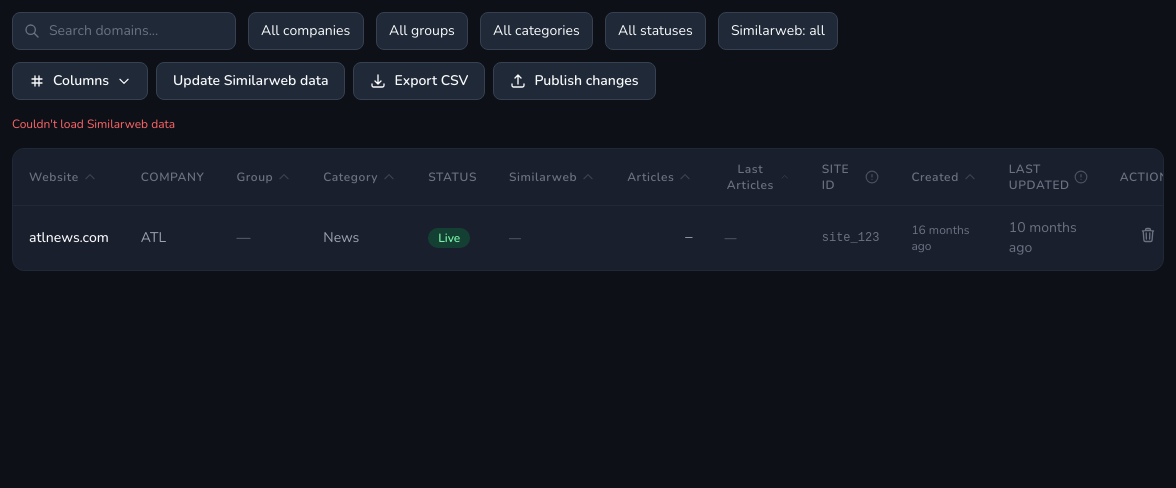
Test: SitesTable — column chooser › closes the popover on Escape
This screenshot has width=1176, height=488.
Expected: the text "atlnews.com" is shown, [13,206,125,270]
Click the button "Columns". click: click(80, 81)
box: [12,62,148,100]
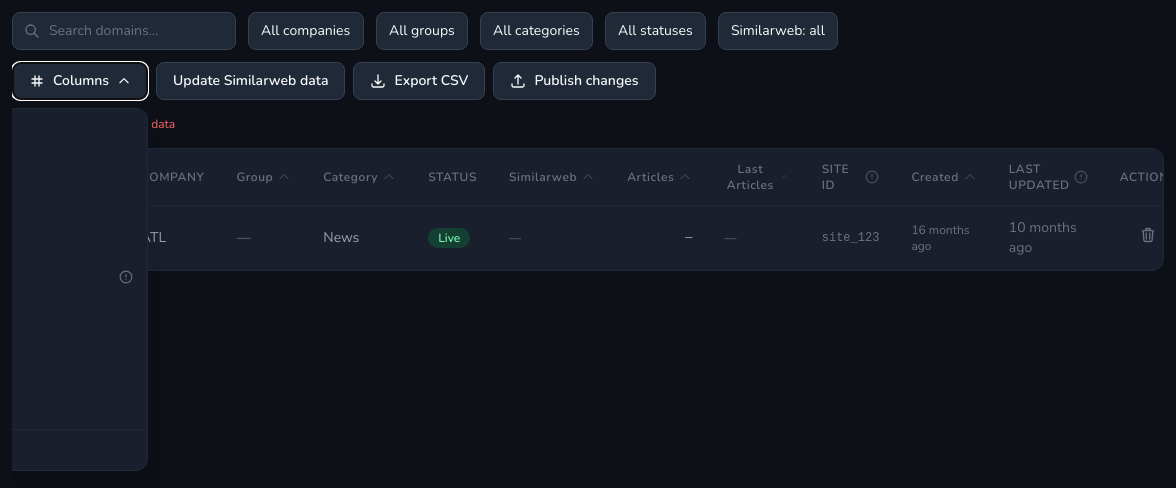
Press Escape
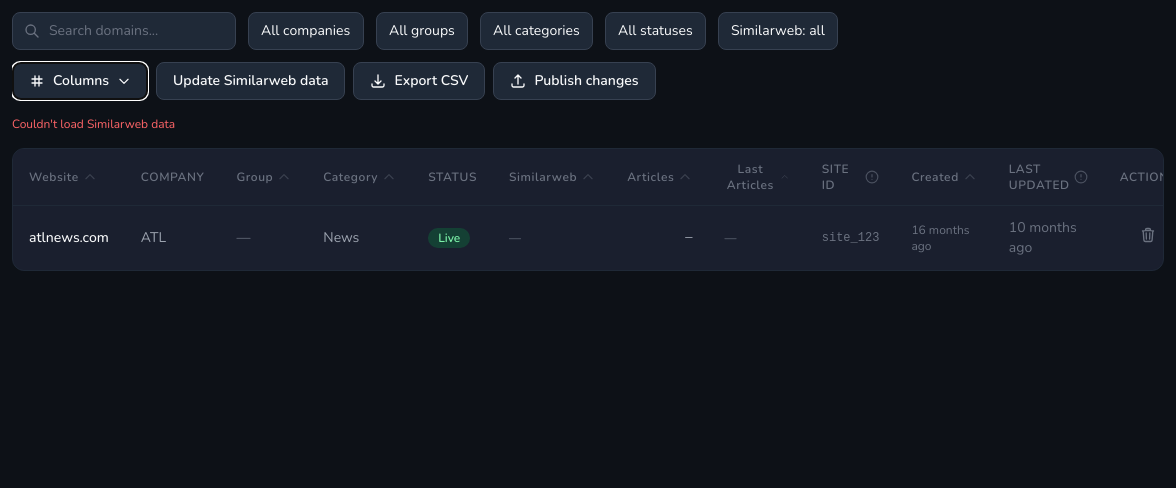
Result: the menu is gone
